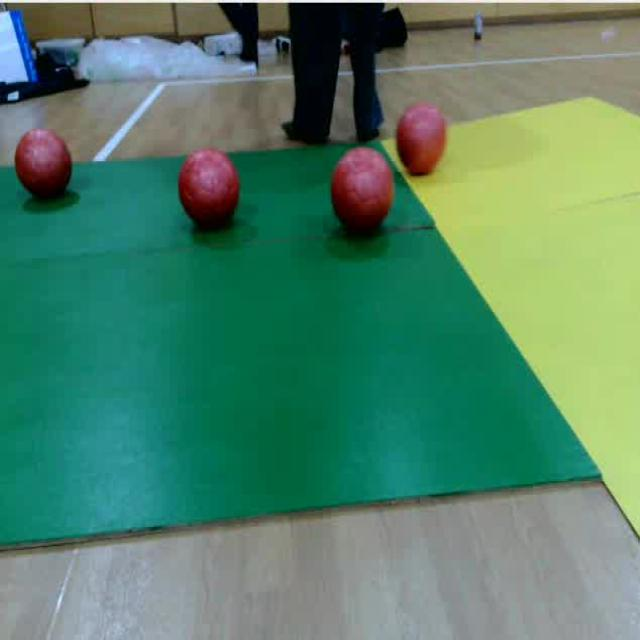red_ball: (326, 147, 396, 242), (176, 151, 242, 234), (14, 126, 75, 206), (393, 102, 449, 174)
